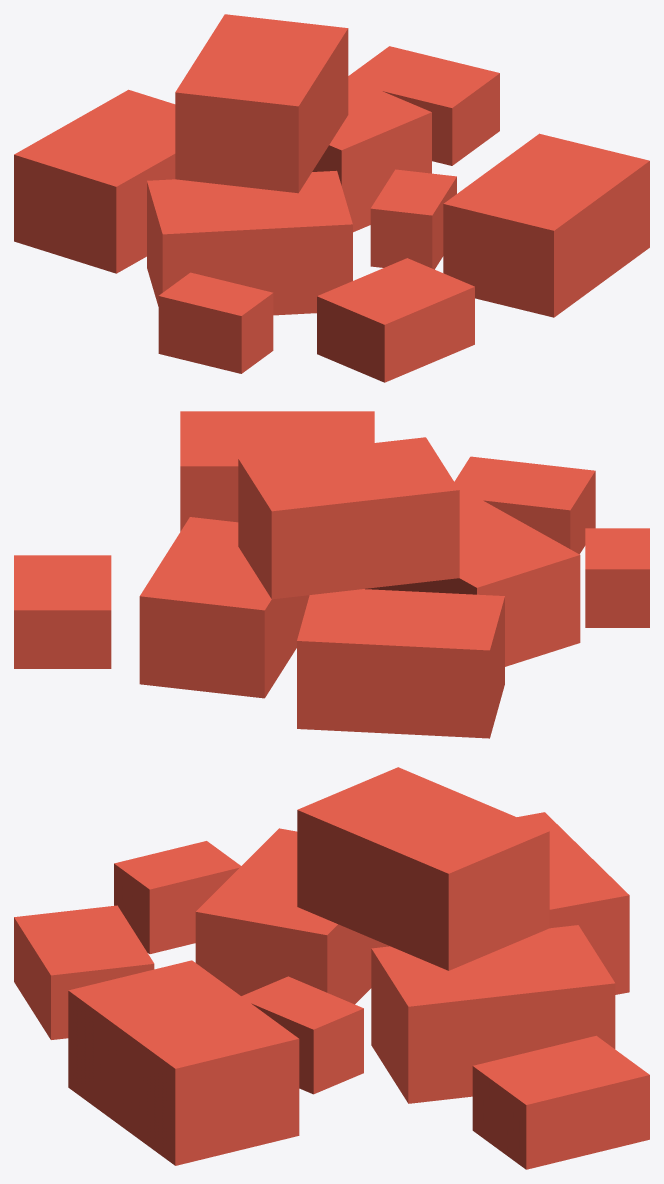
File: brique.fbx
The picture shows the model from 3 angles, top to bottom: view 1: azimuth 30°, elevation 25°; view 2: azimuth 150°, elevation 25°; view 3: azimuth 270°, elevation 25°; orthographic projection. The views are drawn at different scales.
Visible parts, largest first — view 1: mergedBlocks; view 2: mergedBlocks; view 3: mergedBlocks.
Part boxes in pixels (left/top/right/bottom): mergedBlocks: left=14, top=14, right=649, bottom=382; mergedBlocks: left=14, top=411, right=649, bottom=738; mergedBlocks: left=14, top=767, right=649, bottom=1169.
Size of the model in its own units: 8.75 by 3 by 8.9.
